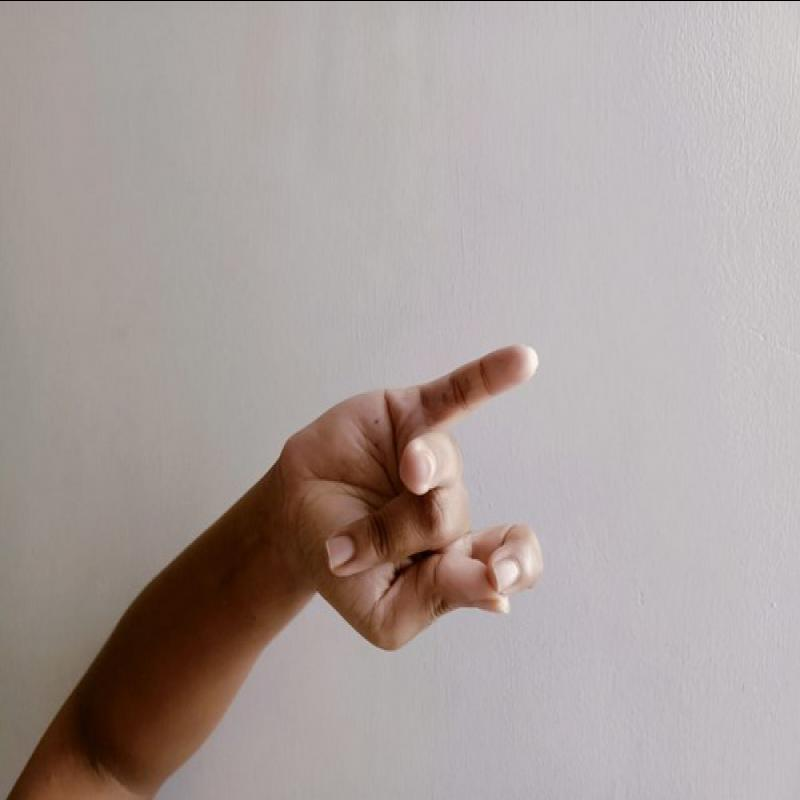Katakam: (274, 334, 588, 662)
